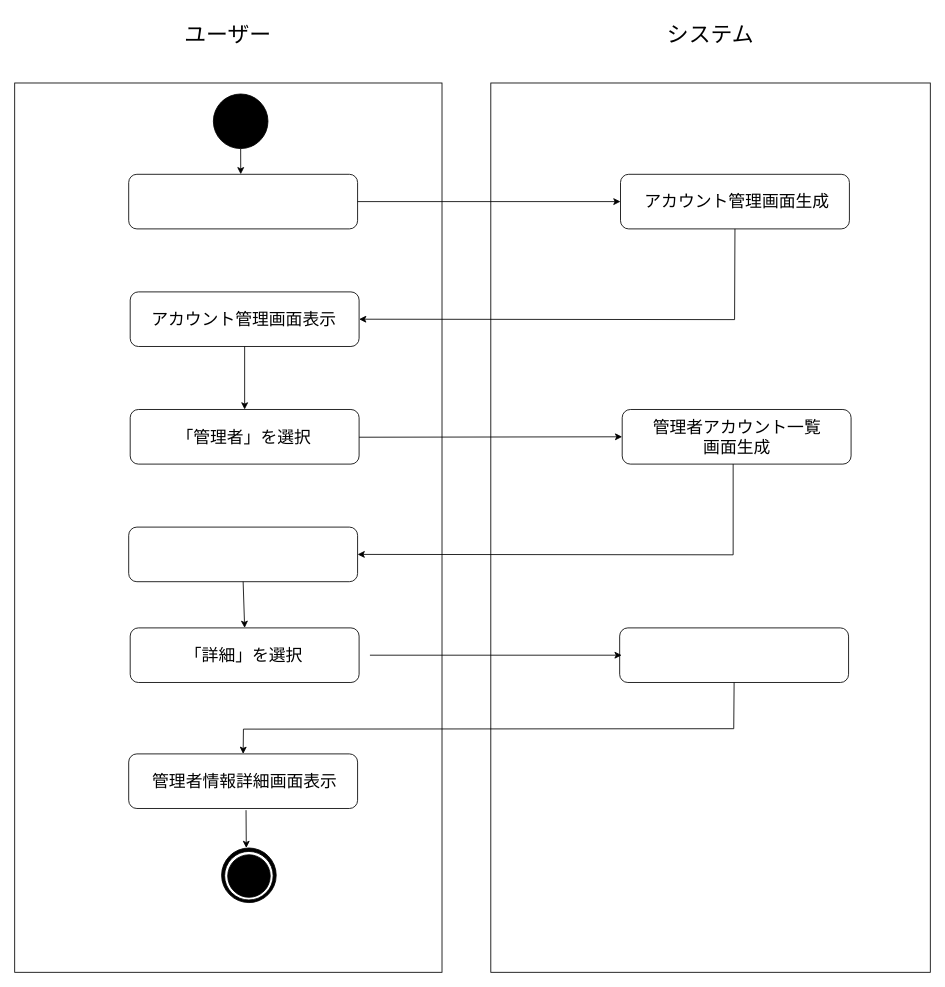
This 945x987 diagram has some shape labels left out. Each missing label, with the box of its shape:
「アカウント管理」を選択: (128, 173, 358, 229)
管理者アカウント 一覧画面表示: (128, 526, 358, 582)
管理者情報詳細画面生成: (619, 627, 849, 682)
